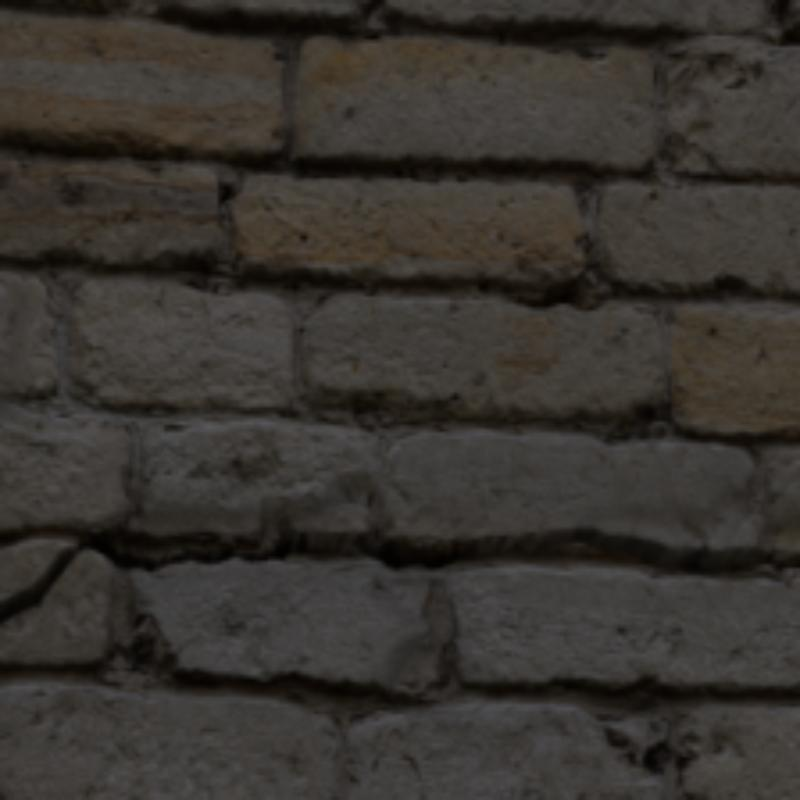crack: (0, 529, 796, 621)
